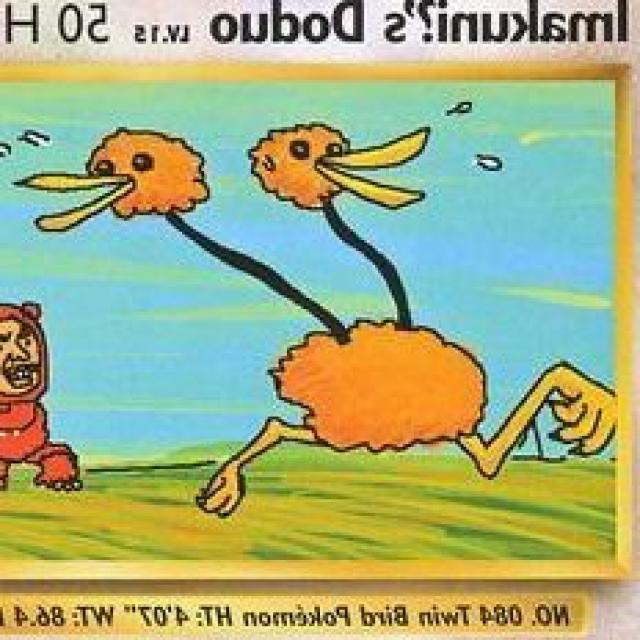Doduo: (92, 124, 507, 518)
